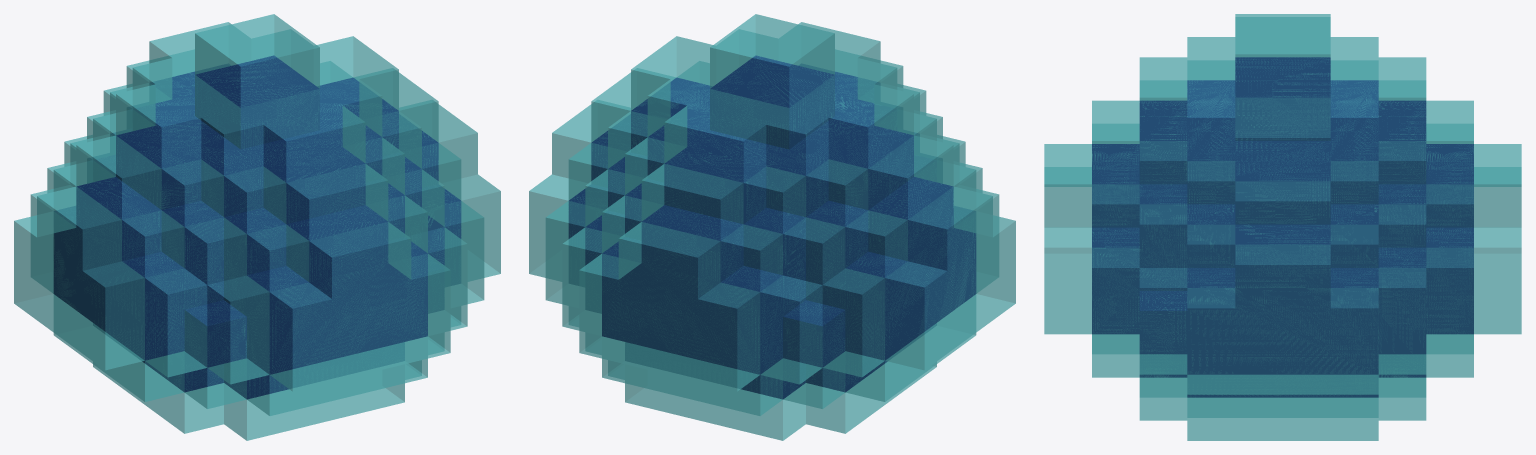
The model's file is slime5.glb.
The picture shows the model from 3 angles, left to right: view 1: azimuth 30°, elevation 25°; view 2: azimuth 150°, elevation 25°; view 3: azimuth 270°, elevation 25°; orthographic projection. The views are drawn at different scales.
Parts seen in each view (by area): view 1: Untitled.001, Untitled; view 2: Untitled.001, Untitled; view 3: Untitled.001, Untitled.
Part boxes in pixels (left/top/right/bottom): Untitled.001: left=14, top=14, right=500, bottom=440; Untitled: left=53, top=55, right=461, bottom=399; Untitled.001: left=529, top=14, right=1015, bottom=440; Untitled: left=568, top=55, right=976, bottom=399; Untitled.001: left=1044, top=14, right=1521, bottom=440; Untitled: left=1092, top=57, right=1473, bottom=397.
Bounding box in the file's own units: 1 × 0.8 × 1.
